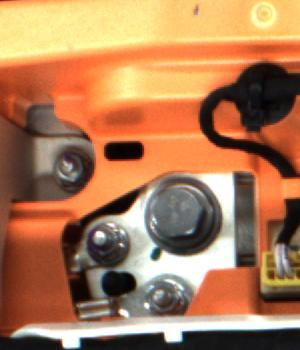nut_b: (140, 175, 222, 261)
screw_s: (46, 156, 106, 200), (90, 222, 137, 268), (137, 283, 187, 318)
